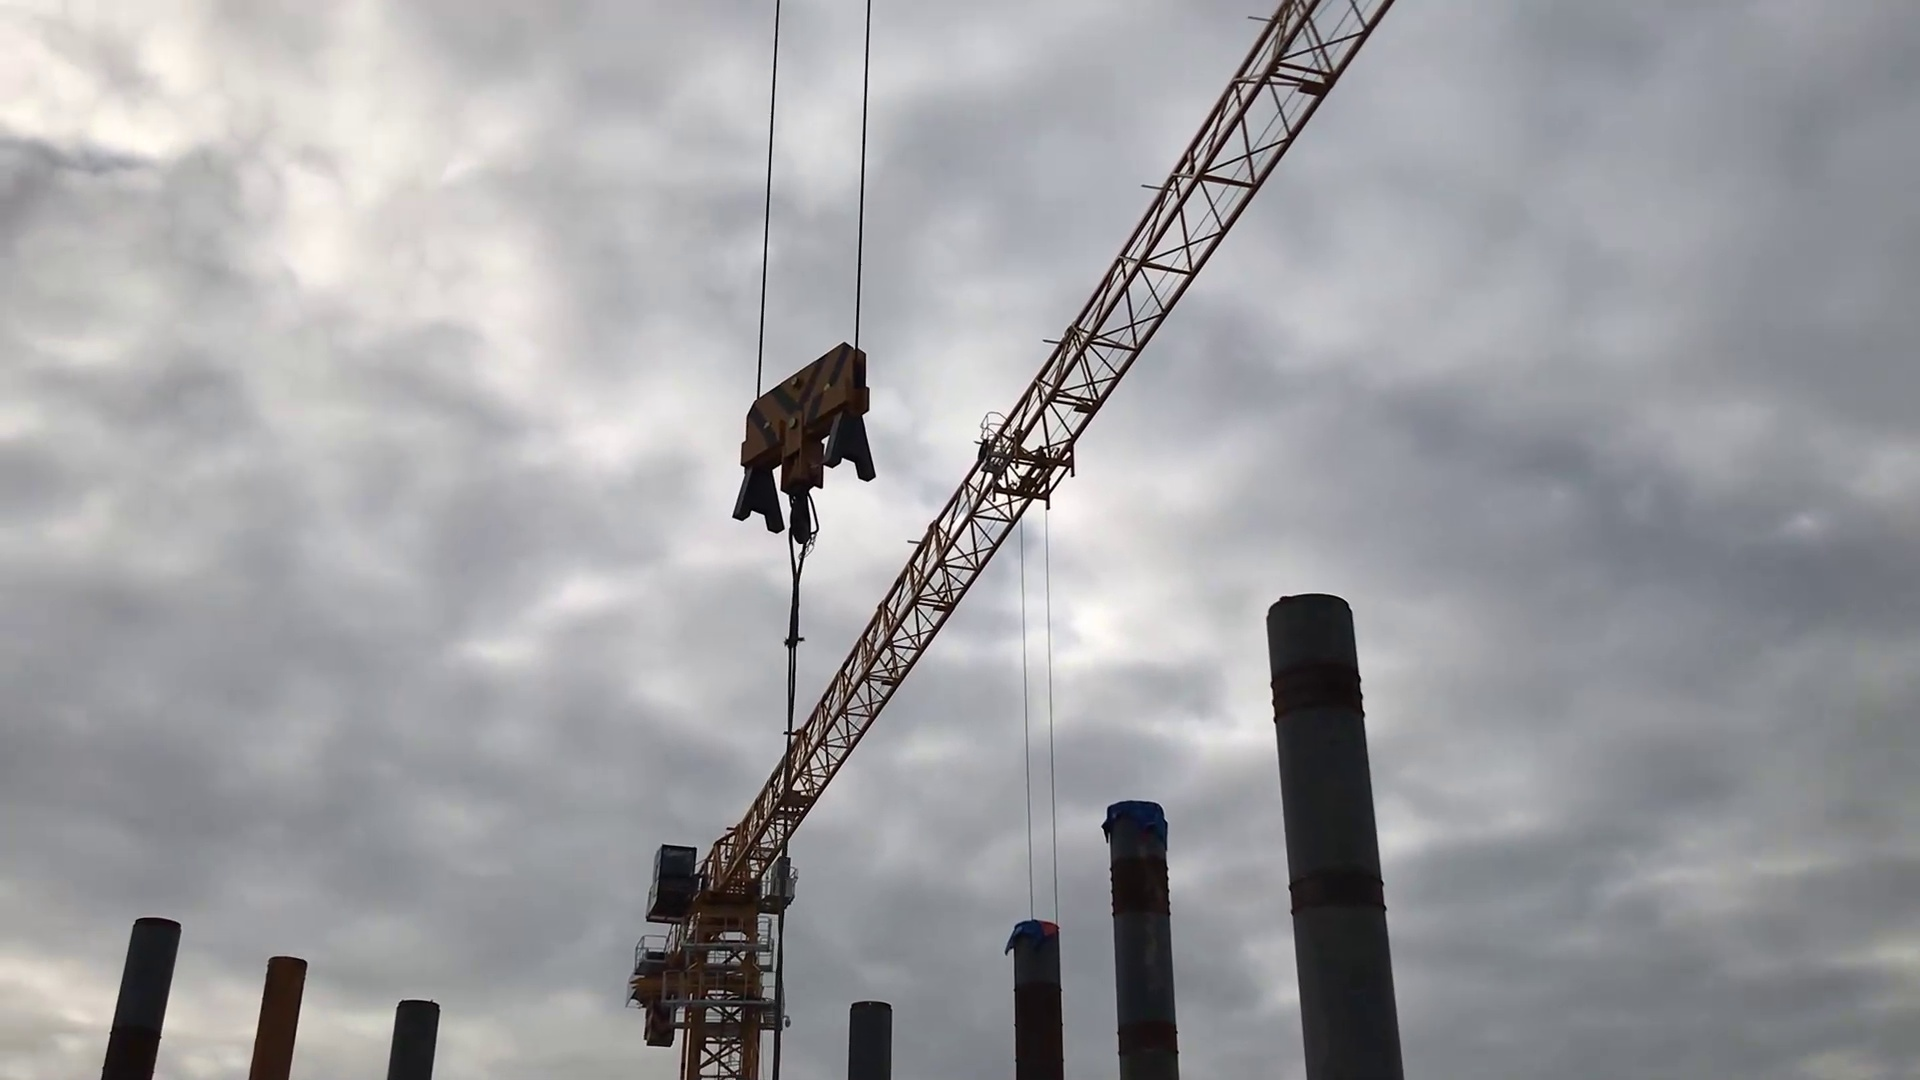hook: (727, 335, 884, 556)
